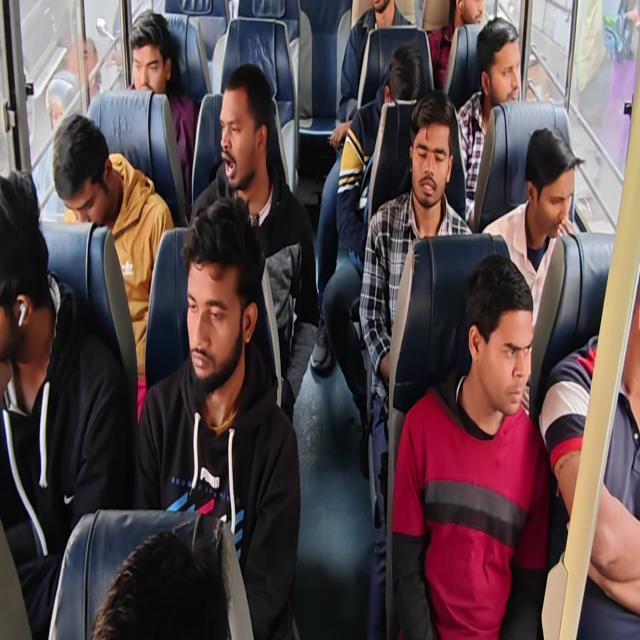person: (1, 1, 638, 638), (134, 195, 301, 638), (358, 89, 474, 637), (0, 167, 133, 638), (390, 253, 552, 638), (188, 62, 319, 424), (322, 44, 426, 475), (52, 112, 174, 422), (538, 271, 639, 638), (481, 125, 584, 416), (336, 44, 425, 260), (90, 529, 232, 639), (125, 9, 198, 209), (456, 16, 521, 228), (331, 0, 415, 155), (31, 70, 80, 222), (428, 0, 486, 91), (66, 35, 102, 108)
